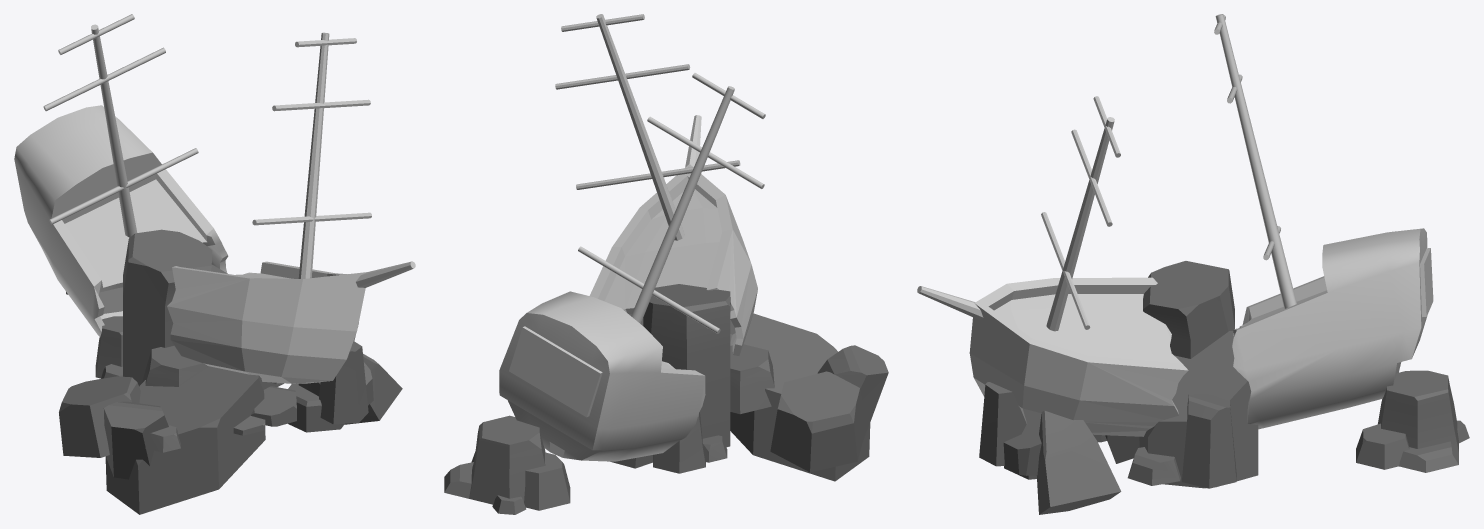
File: Zone2_Shipwreck.fbx
The picture shows the model from 3 angles, left to right: view 1: azimuth 30°, elevation 25°; view 2: azimuth 150°, elevation 25°; view 3: azimuth 270°, elevation 25°; orthographic projection. The views are drawn at different scales.
Parts seen in each view (by area): view 1: rock, shipwreck_half10, shipwreck_half9; view 2: rock, shipwreck_half10, shipwreck_half9; view 3: rock, shipwreck_half10, shipwreck_half9.
Part boxes in pixels (x1,y1,x2,y2): rock: (59, 229, 402, 514); shipwreck_half10: (14, 14, 228, 336); shipwreck_half9: (167, 32, 415, 383); rock: (444, 284, 888, 514); shipwreck_half10: (499, 73, 765, 461); shipwreck_half9: (555, 14, 757, 355); rock: (979, 261, 1469, 514); shipwreck_half10: (1214, 14, 1433, 429); shipwreck_half9: (917, 96, 1188, 436).
Size of the model in its own units: 3926 by 5127 by 5878.
